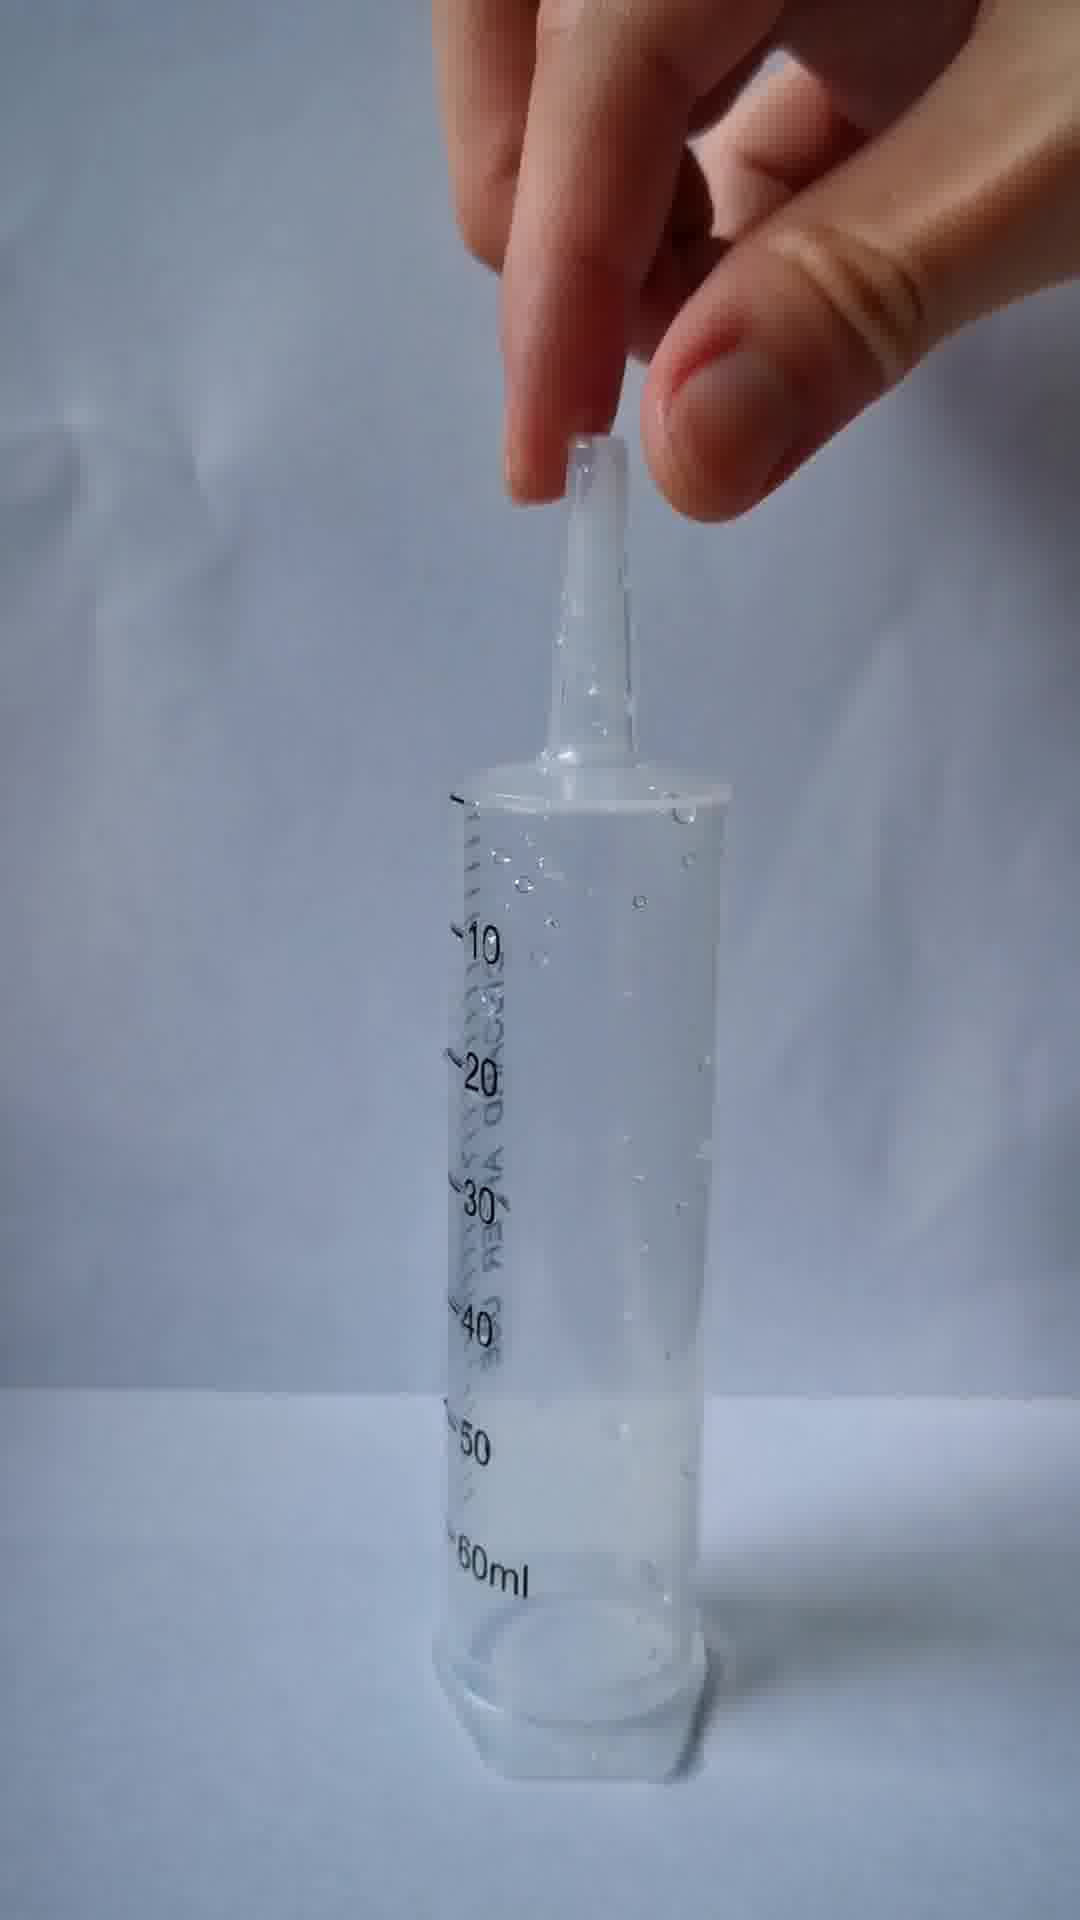syringe: (423, 436, 754, 1788)
